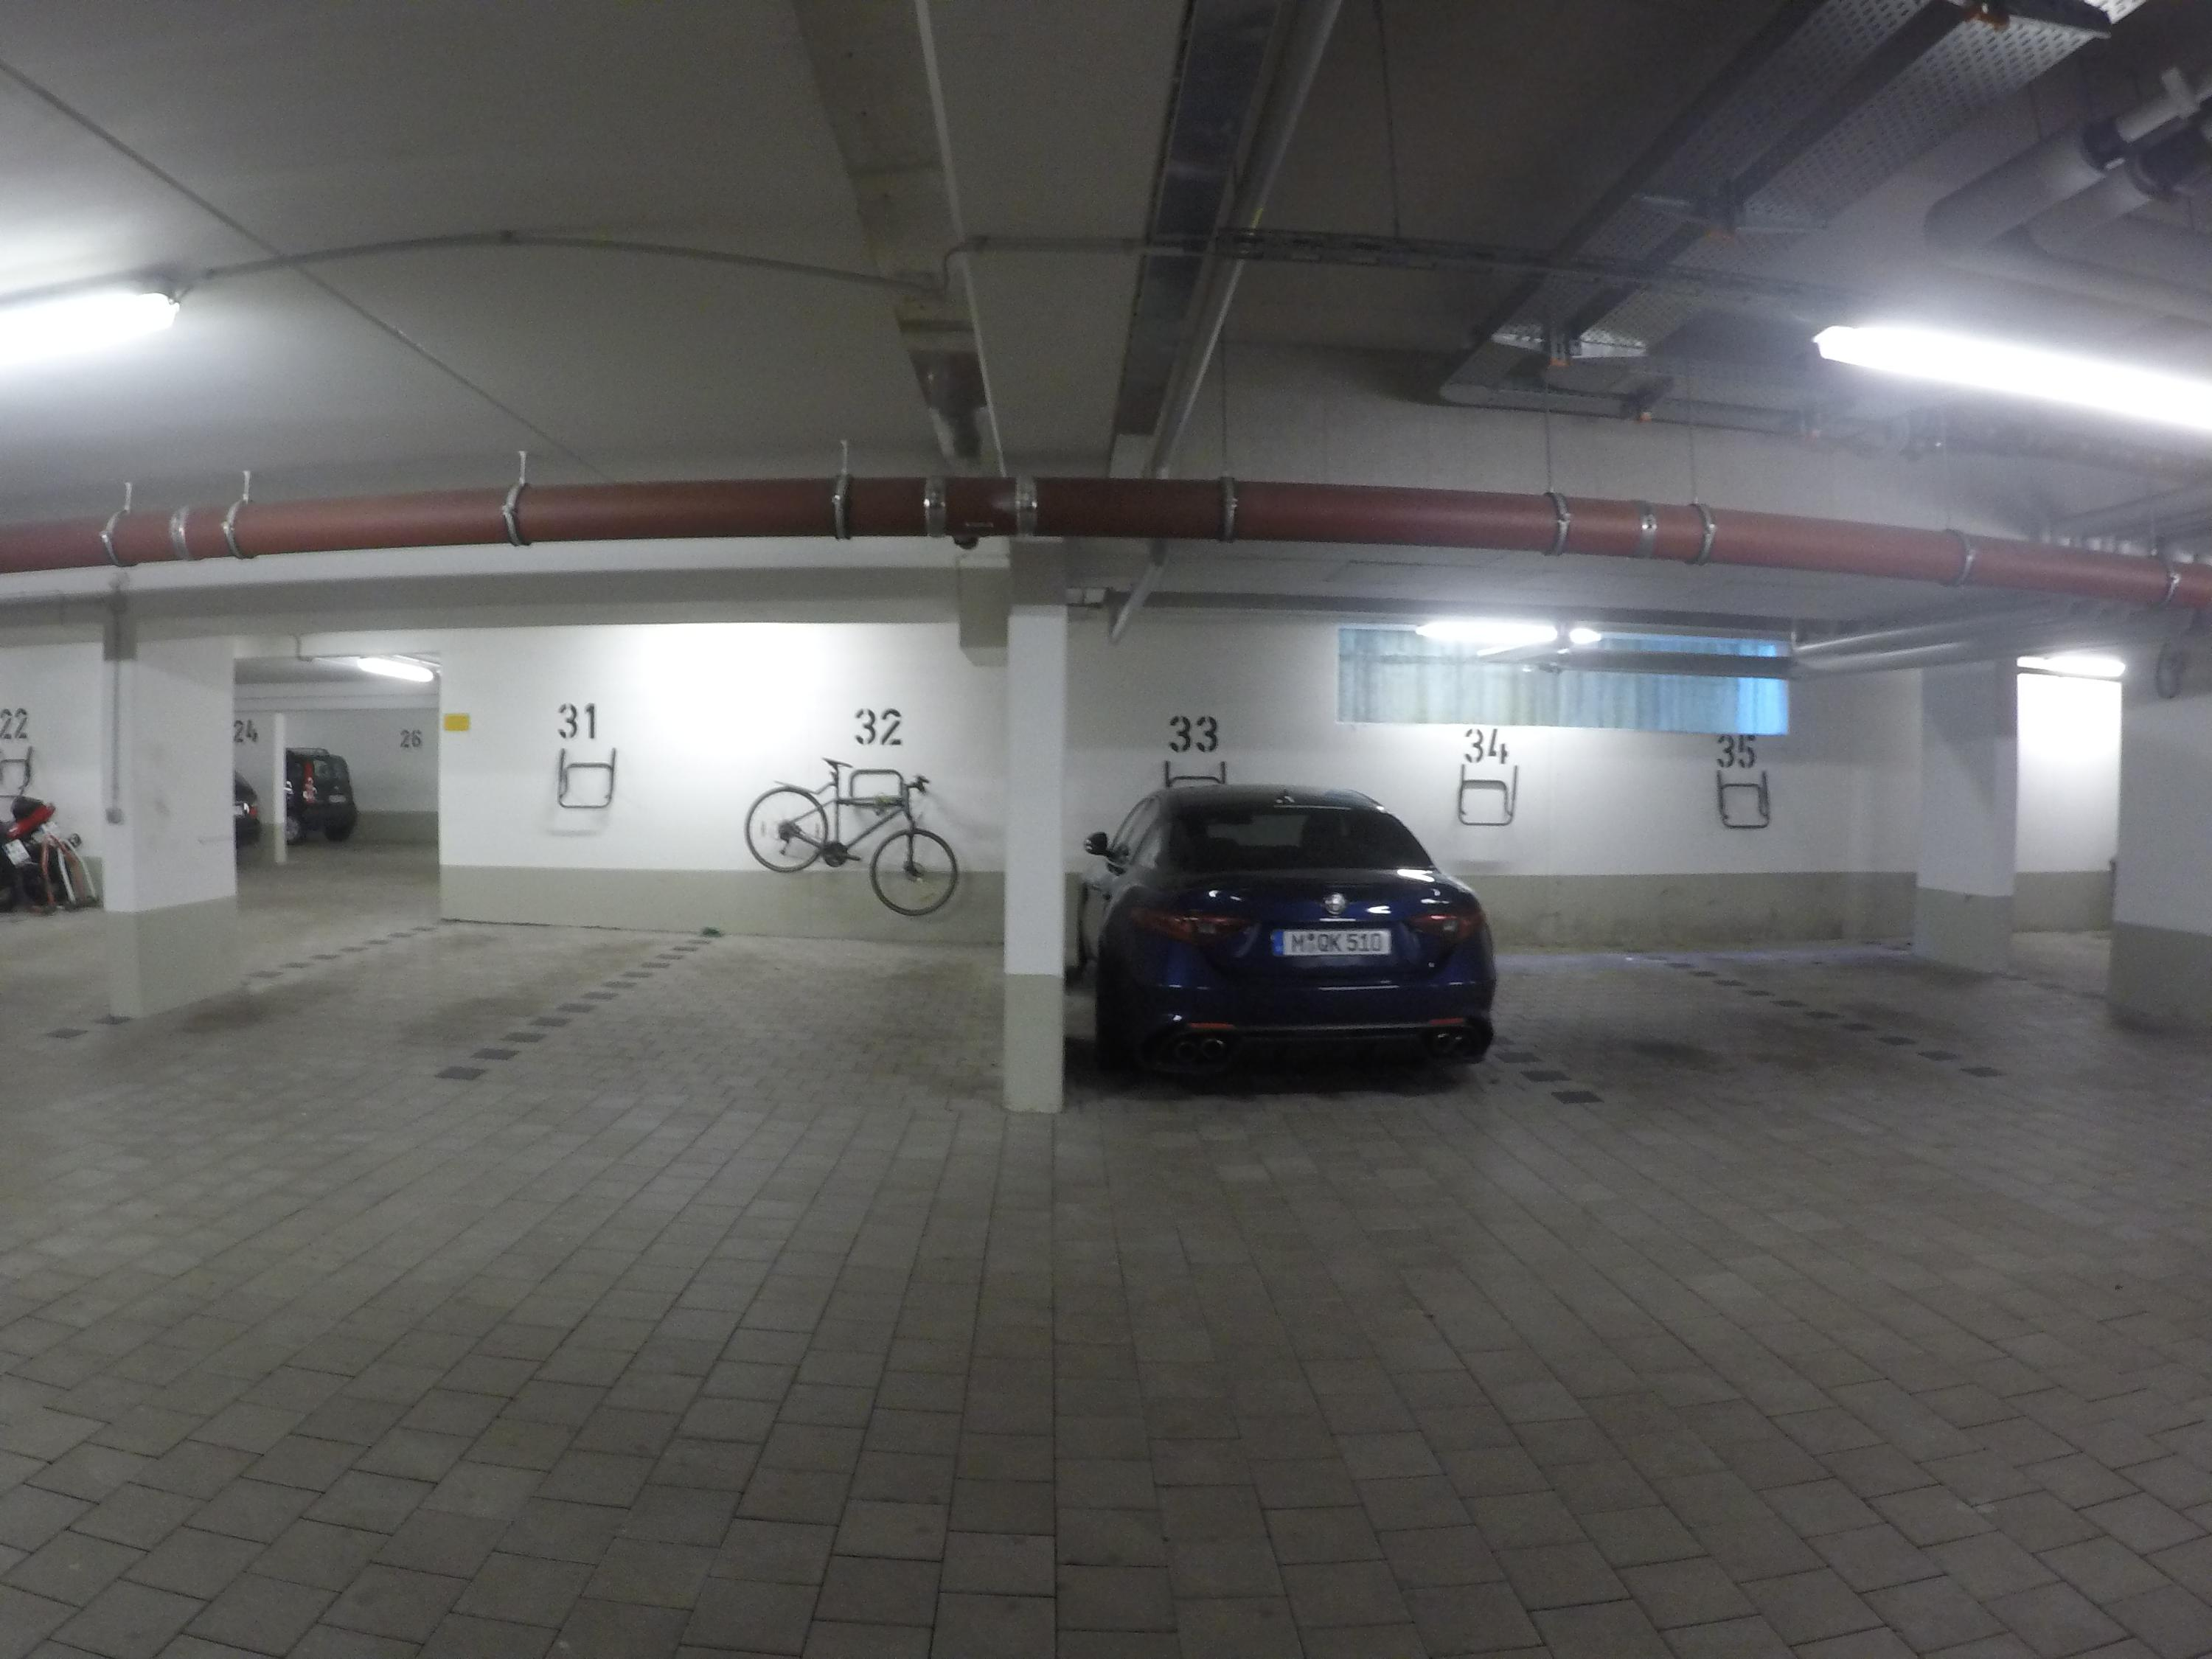0: (1369, 933, 1382, 951)
1: (1358, 933, 1369, 952)
5: (1346, 932, 1358, 951)
K: (1329, 933, 1342, 952)
M: (1290, 933, 1305, 953)
Q: (1317, 933, 1329, 952)
